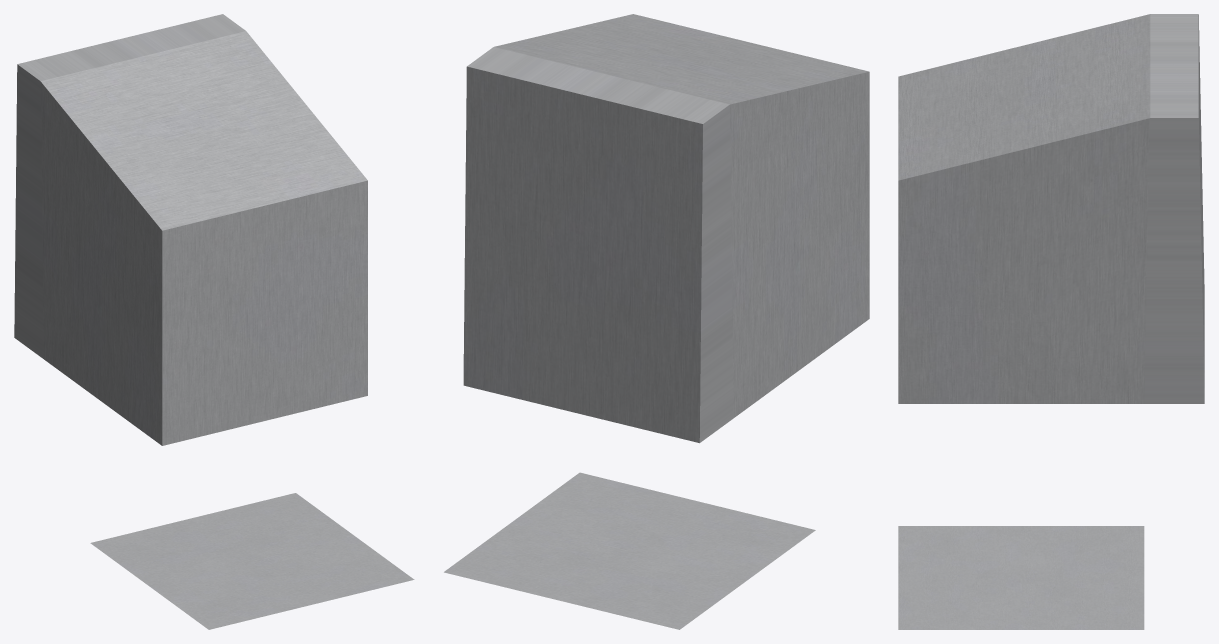
File: simple13.glb
3 renders of one model, left to right at view 1: azimuth 30°, elevation 25°; view 2: azimuth 150°, elevation 25°; view 3: azimuth 270°, elevation 25°, orthographic. The views are drawn at different scales.
Visible parts, largest first — view 1: Cube, Plane; view 2: Cube, Plane; view 3: Cube, Plane.
Boxes of the visible parts, bbox=[...] form: Cube: bbox=[14, 14, 367, 445]; Plane: bbox=[90, 493, 414, 629]; Cube: bbox=[463, 14, 869, 443]; Plane: bbox=[444, 472, 815, 629]; Cube: bbox=[898, 14, 1204, 403]; Plane: bbox=[898, 526, 1144, 629].
Bounding box in the file's own units: 2.45 × 4.38 × 2.49.
Materials: 1 (1 with a texture image).
